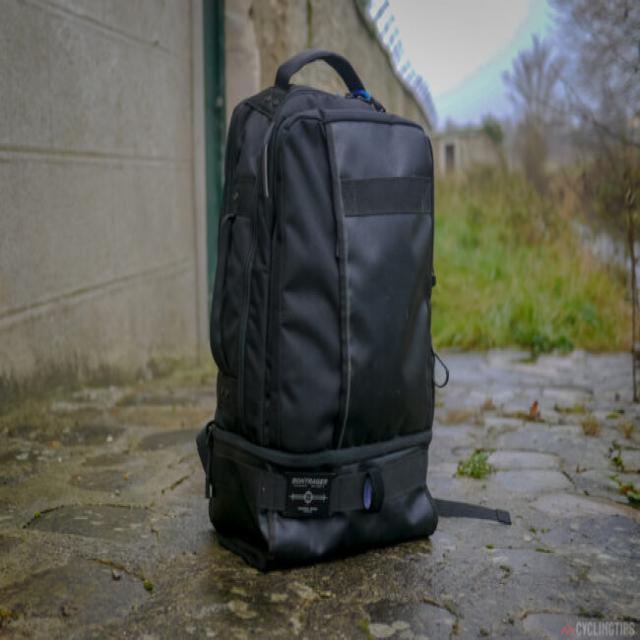Backpacks: (198, 46, 450, 572)
